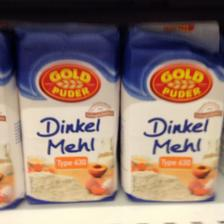Mehl: (13, 20, 119, 204), (119, 24, 223, 202)
